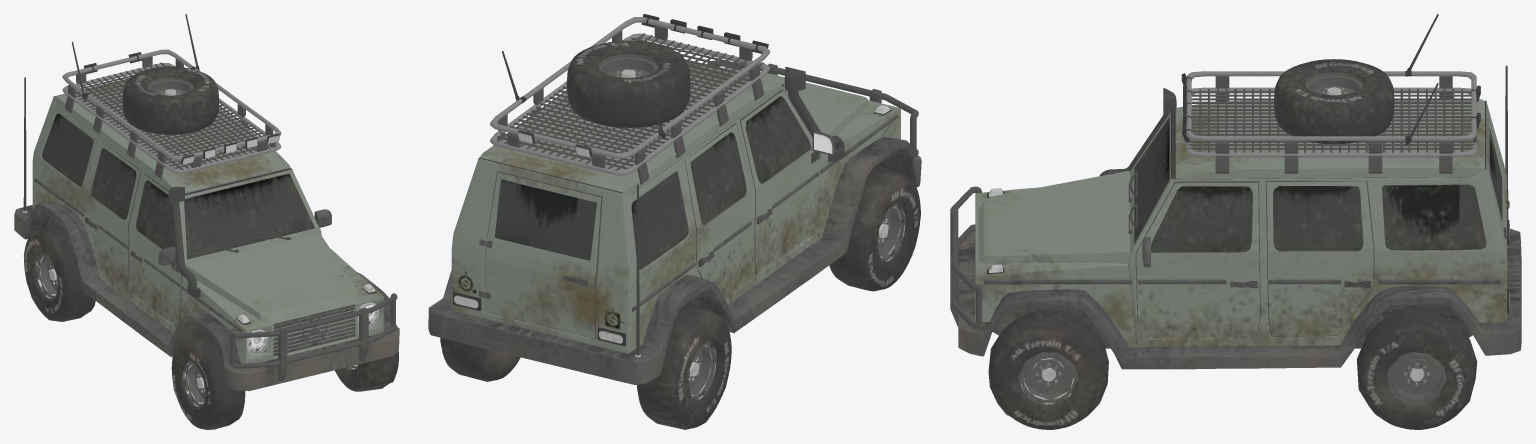
Rendered from mercedes-g550-materials-show-ecd95e.glb.
3 renders of one model, left to right at view 1: azimuth 30°, elevation 25°; view 2: azimuth 150°, elevation 25°; view 3: azimuth 270°, elevation 25°, orthographic. The views are drawn at different scales.
Parts seen in each view (by area): view 1: body, wheel-front-right, wheel-back-right, wheel-front-left; view 2: body, wheel-back-right, wheel-front-right, wheel-back-left; view 3: body, wheel-front-left, wheel-back-left.
Boxes of the visible parts, x1,y1,x2,y2 form: body: [14, 14, 399, 391]; wheel-front-right: [171, 333, 245, 429]; wheel-back-right: [23, 225, 95, 321]; wheel-front-left: [334, 351, 398, 391]; body: [428, 14, 921, 384]; wheel-back-right: [637, 305, 731, 429]; wheel-front-right: [829, 166, 920, 291]; wheel-back-left: [440, 337, 520, 381]; body: [950, 14, 1521, 370]; wheel-front-left: [988, 310, 1108, 429]; wheel-back-left: [1357, 309, 1477, 429].
Size of the model in its own units: 1.47 by 1.99 by 3.12.
1 material, 1 textured.
